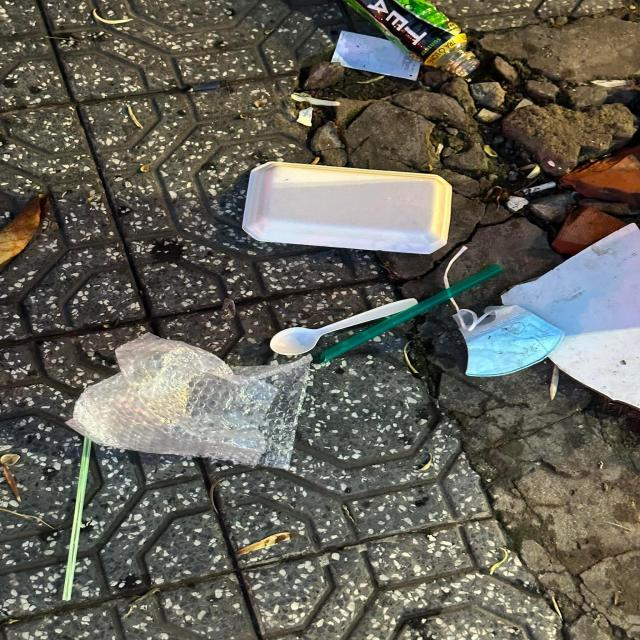bag: (64, 333, 313, 473)
bottle: (342, 0, 480, 76)
drinking straw: (320, 264, 506, 364), (64, 434, 92, 602)
foam box: (241, 161, 452, 255)
mask: (451, 304, 565, 379)
paper: (329, 29, 421, 82)
plastic utensil: (270, 297, 417, 356)
